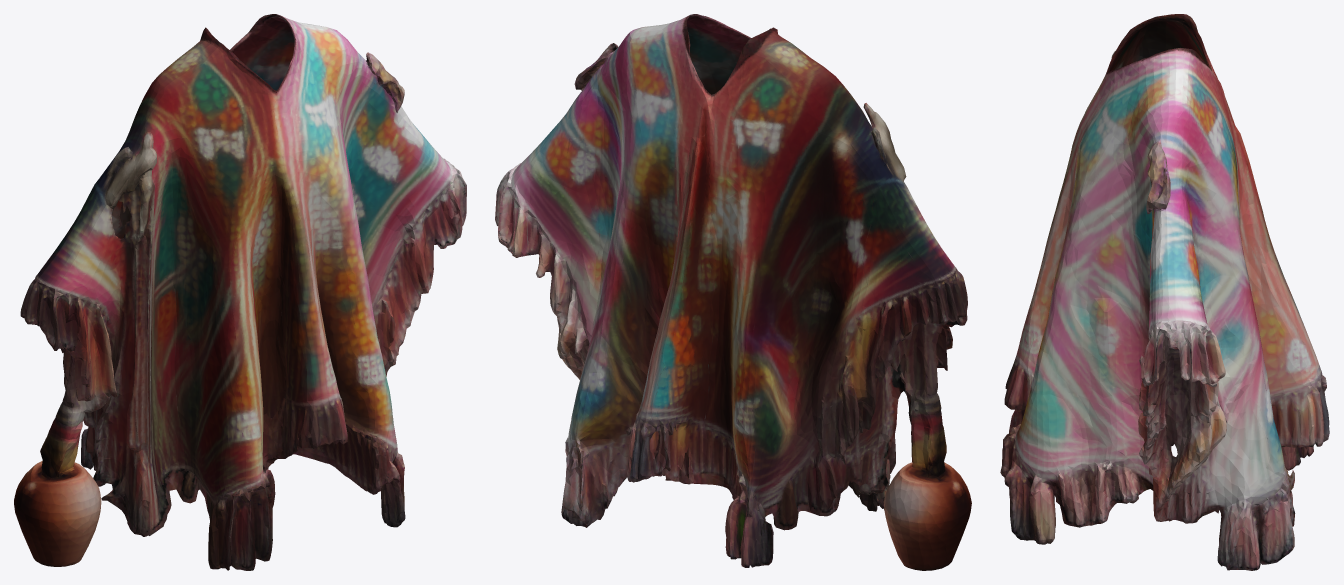
The model's file is poncho.glb.
The picture shows the model from 3 angles, left to right: view 1: azimuth 30°, elevation 25°; view 2: azimuth 150°, elevation 25°; view 3: azimuth 270°, elevation 25°; orthographic projection. The views are drawn at different scales.
Parts seen in each view (by area): view 1: world; view 2: world; view 3: world.
Boxes of the visible parts, <box> form: world: <box>14,14,466,570</box>; world: <box>495,14,971,570</box>; world: <box>1000,14,1329,570</box>.
Size of the model in its own units: 0.9719 by 1 by 0.6124.
Materials: 1 (1 with a texture image).
